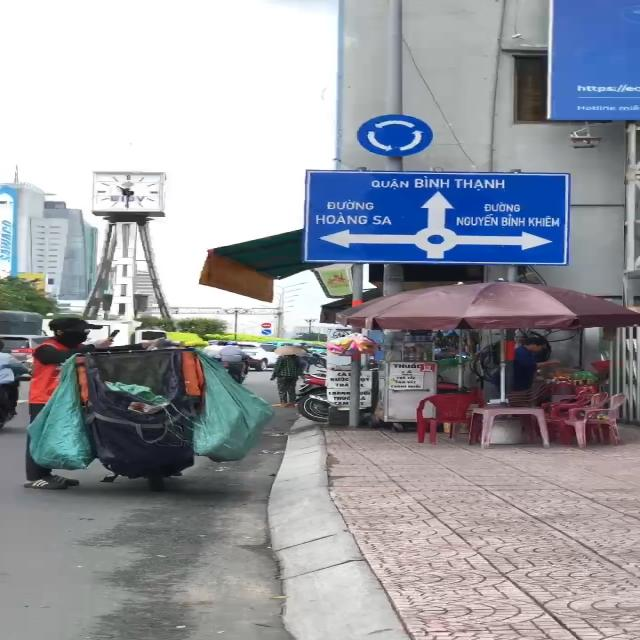Bien bao noi giao nhau chay theo vong xuyen: (354, 112, 439, 158)
